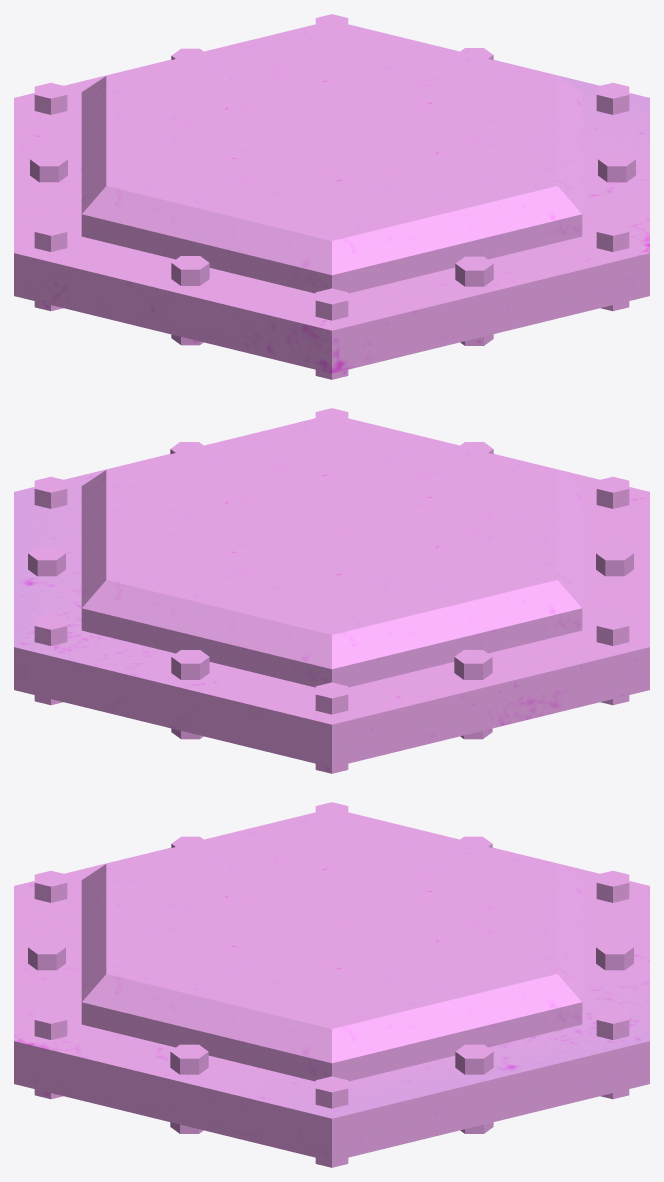
The model's file is PipeLargeCap_01_SM_Low.fbx.
3 views of the same model, one above another, from view 1: azimuth 30°, elevation 25°; view 2: azimuth 150°, elevation 25°; view 3: azimuth 270°, elevation 25° (orthographic).
Visible parts, largest first — view 1: Large_Cap; view 2: Large_Cap; view 3: Large_Cap.
Part boxes in pixels (x1,y1,x2,y2): Large_Cap: (14, 14, 649, 379); Large_Cap: (14, 408, 649, 773); Large_Cap: (14, 802, 649, 1167).
Size of the model in its own units: 229 by 45.47 by 198.
Materials: 1 (1 with a texture image).
